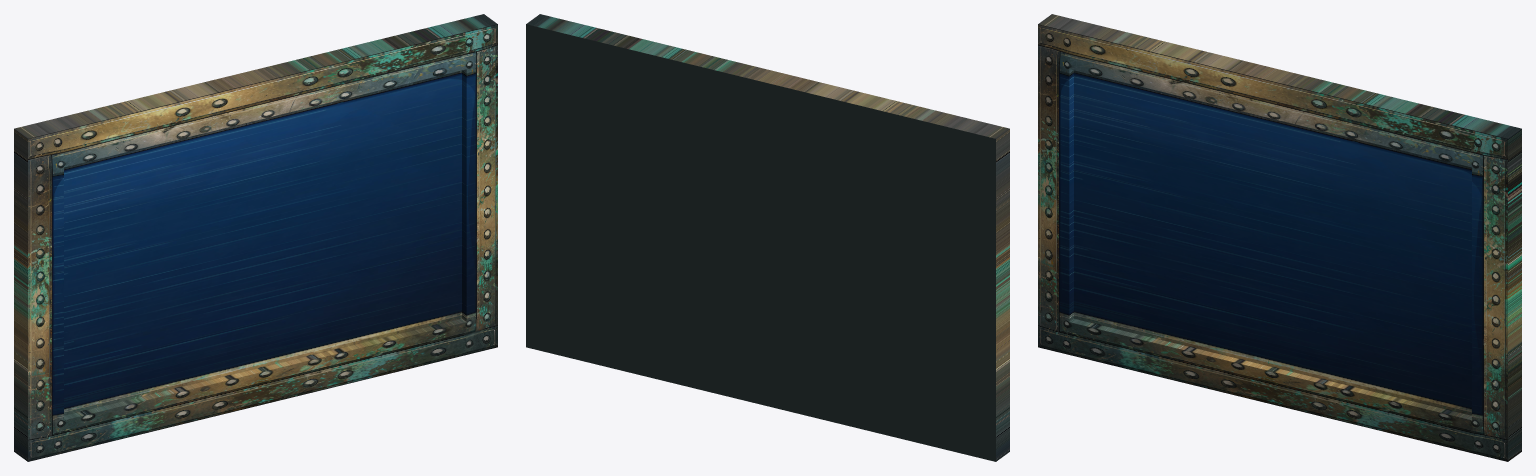
The model's file is panel_intro.glb.
3 views of the same model, side by side, from view 1: azimuth 30°, elevation 25°; view 2: azimuth 150°, elevation 25°; view 3: azimuth 330°, elevation 25° (orthographic).
Parts seen in each view (by area): view 1: panel_intro; view 2: panel_intro; view 3: panel_intro.
Part boxes in pixels (x1,y1,x2,y2): panel_intro: (14, 14, 497, 461); panel_intro: (526, 14, 1009, 461); panel_intro: (1038, 14, 1521, 461).
Size of the model in its own units: 0.7 by 0.46 by 0.042.
1 material, 1 textured.
